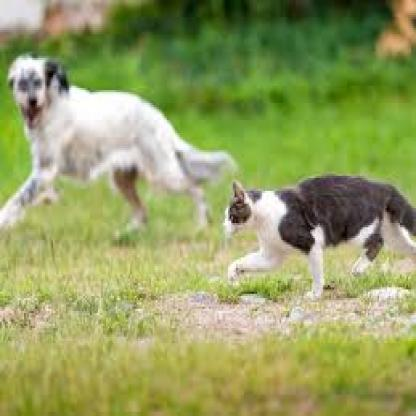cat: (214, 180, 312, 271)
